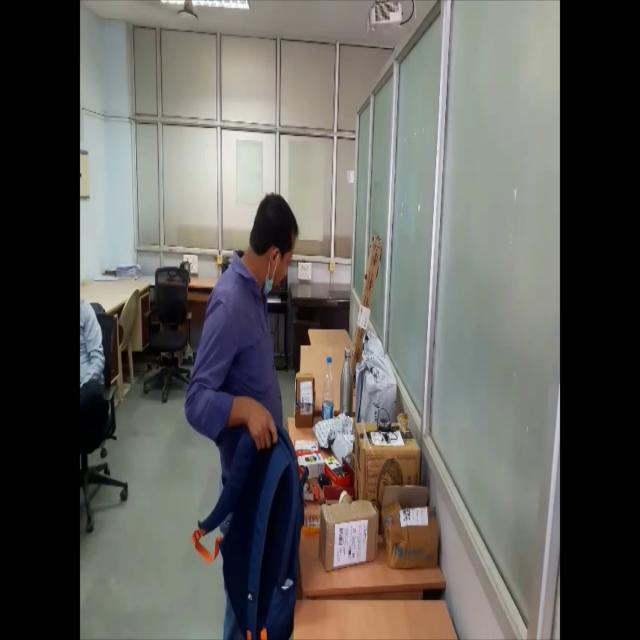shoplifting: (183, 194, 305, 640)
